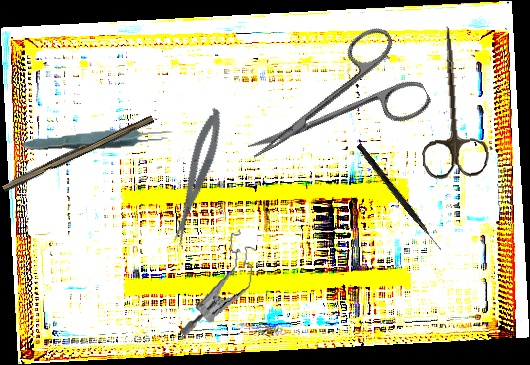Hook Surgical: (355, 143, 445, 252)
Iris Scissors: (226, 18, 435, 194), (411, 23, 491, 181)
Micro Scissor: (163, 105, 230, 248)
Scalpel Handle: (0, 110, 155, 195)
Speculum: (179, 223, 260, 344)
Tissue Forceps: (21, 125, 175, 156)
